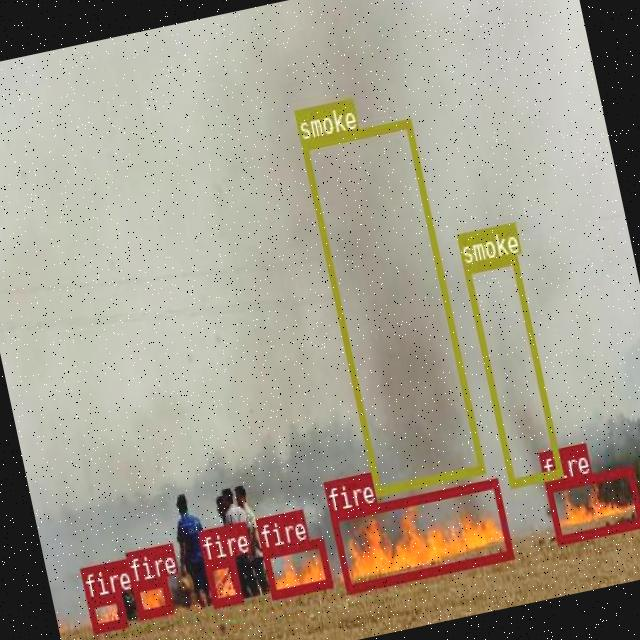fire: (329, 478, 512, 592), (543, 464, 640, 542), (260, 536, 331, 598), (202, 556, 242, 606), (131, 576, 172, 618), (86, 591, 126, 631)
smoke: (298, 118, 484, 494), (462, 252, 562, 486)
